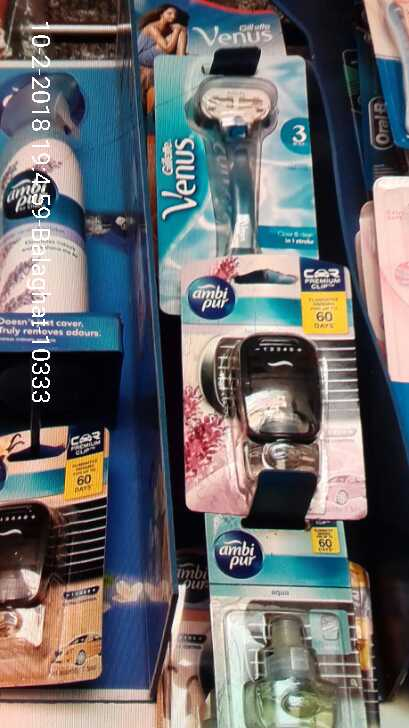beauty: (150, 59, 321, 289)
home: (182, 268, 367, 515), (208, 512, 383, 724), (1, 423, 117, 683)
